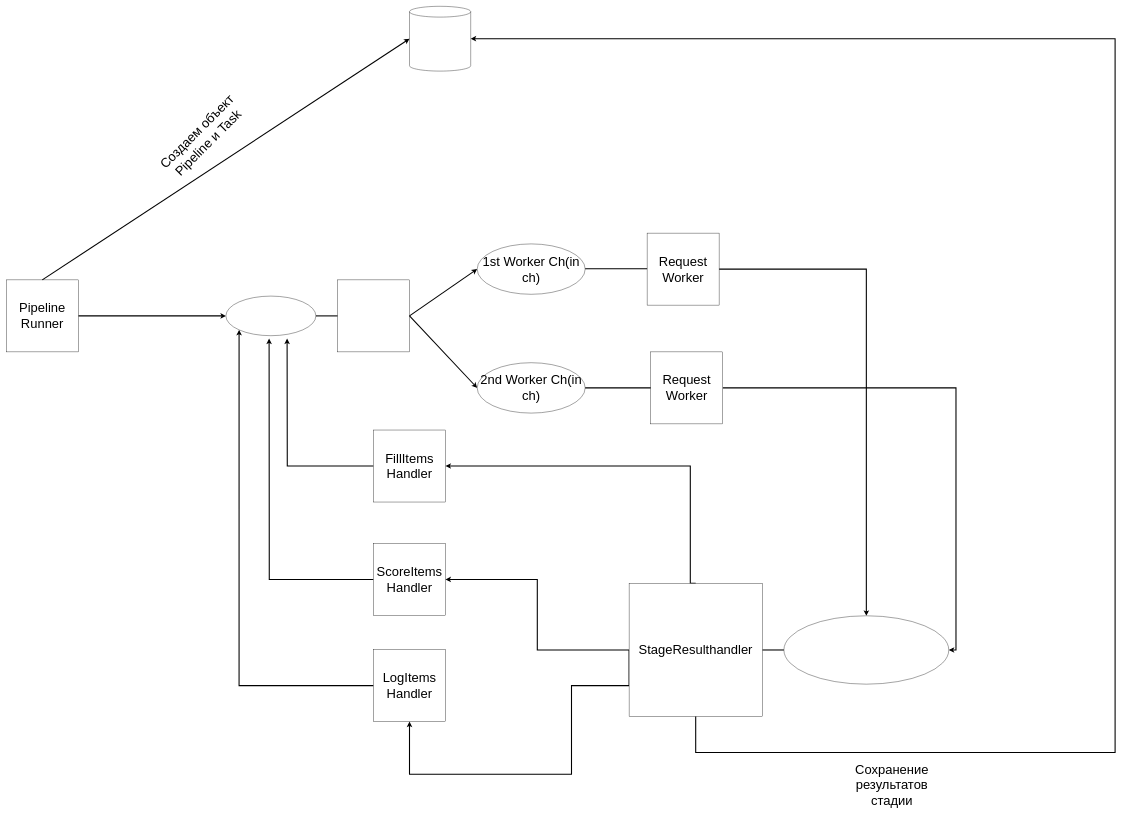
Image size: 1125x816. Some labels were removed from this diagram. Here are the shapes that lost their labels. From the top down, the box of each, then its label:
(409, 6, 471, 71): БД
(226, 296, 316, 336): Request Ch
(337, 280, 410, 352): Request Dispatcher (worker link asker)
(784, 615, 949, 684): Stage result ch (out ch)
